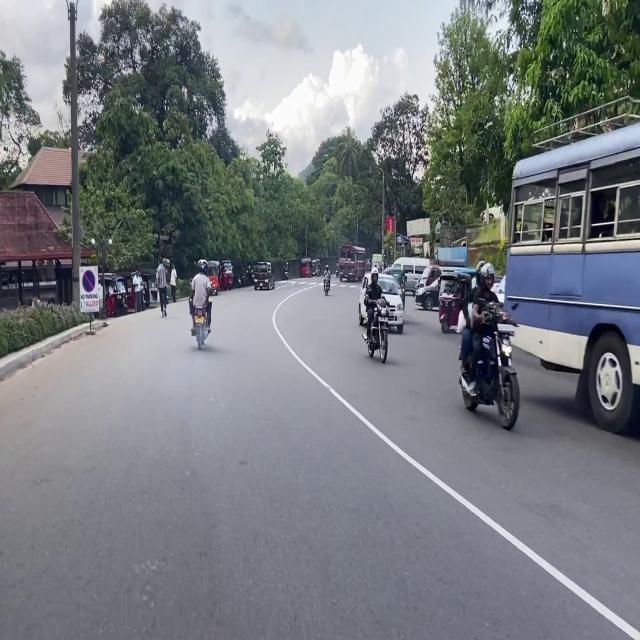bus: (505, 98, 640, 432), (339, 245, 365, 281)
car: (358, 273, 404, 334), (416, 279, 440, 311), (254, 263, 274, 290)
motorcycle: (459, 302, 519, 430), (367, 297, 388, 363), (195, 308, 207, 350), (324, 273, 330, 296), (241, 268, 247, 286), (284, 261, 288, 280), (336, 267, 339, 279)
person: (470, 263, 498, 392), (459, 261, 485, 372), (364, 267, 385, 355), (189, 259, 212, 335), (156, 257, 166, 317), (133, 270, 141, 312), (138, 268, 145, 311), (170, 263, 177, 303), (106, 284, 115, 315), (325, 264, 328, 272)
three wheeler: (439, 274, 469, 332), (99, 273, 127, 316), (385, 267, 406, 309), (142, 268, 159, 307), (120, 270, 135, 311), (208, 261, 220, 295), (221, 260, 233, 290), (301, 259, 312, 277), (312, 260, 320, 276)
van: (393, 257, 430, 292), (416, 265, 441, 293)
